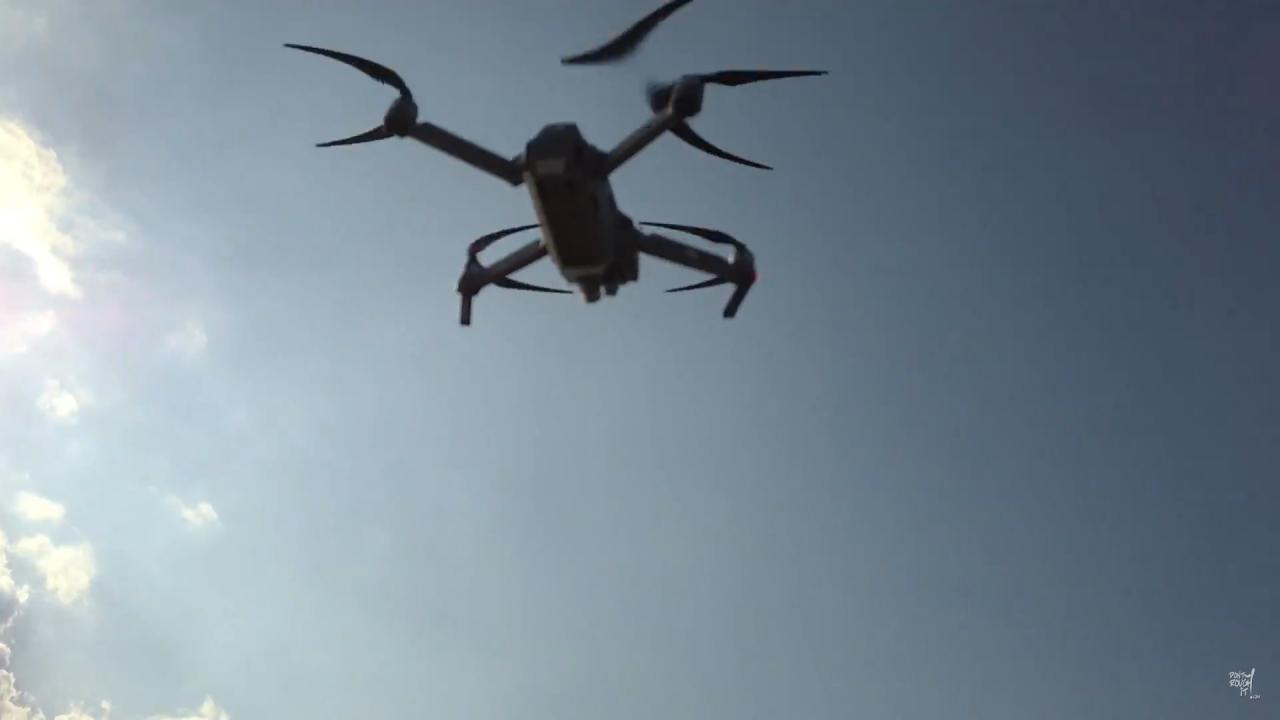Drone: (254, 28, 858, 345)
